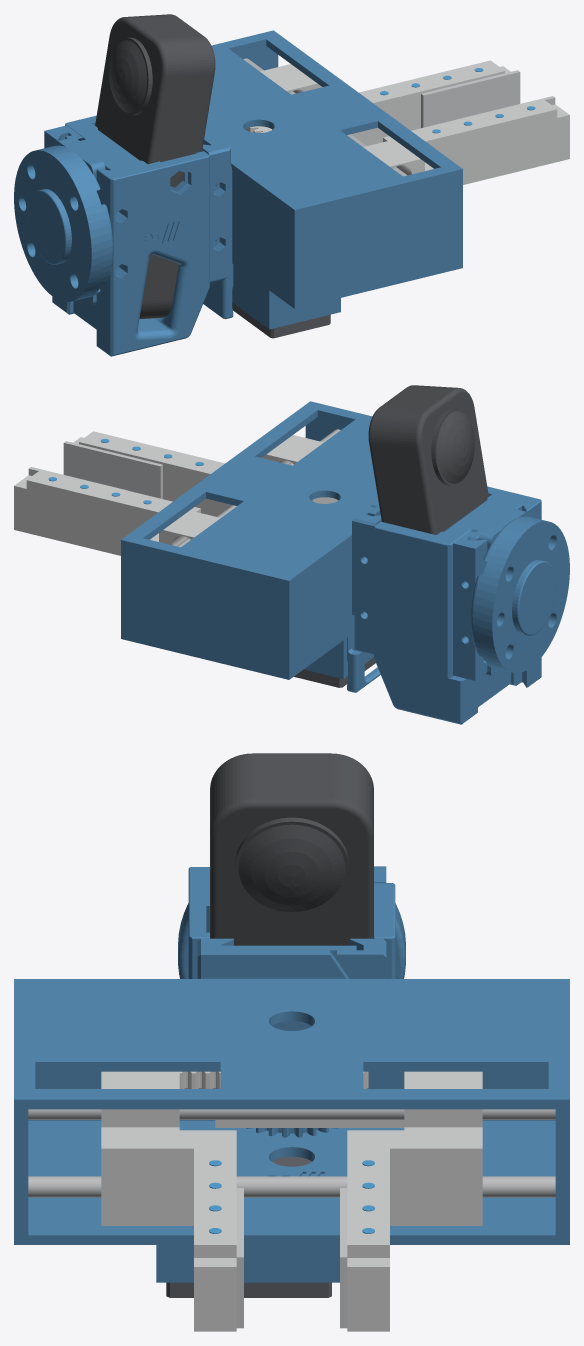
File: parallel_iso50.glb
The picture shows the model from 3 angles, top to bottom: view 1: azimuth 30°, elevation 25°; view 2: azimuth 150°, elevation 25°; view 3: azimuth 270°, elevation 25°; orthographic projection. The views are drawn at different scales.
Parts seen in each view (by area): view 1: parallel_base_sa, x5_frame, insta360_x5_envelope, iso_flange_plate, parallel_finger_right, parallel_finger_left, parallel_pad_left, parallel_carriage_right, parallel_carriage_left, servo_envelope, x5_clip_b; view 2: parallel_base_sa, x5_frame, insta360_x5_envelope, iso_flange_plate, parallel_finger_left, x5_clip_b, parallel_finger_right, parallel_pad_right, chopstick_clip_sa, parallel_carriage_left, parallel_carriage_right, servo_envelope; view 3: parallel_base_sa, insta360_x5_envelope, parallel_finger_left, parallel_finger_right, parallel_rod_bottom, parallel_carriage_left, parallel_rod_top, parallel_carriage_right, x5_frame, servo_envelope, chopstick_clip_sa, iso_flange_plate (+2 smaller).
Boxes of the visible parts, x1,y1,x2,y2 form: parallel_base_sa: [202, 30, 462, 329]; x5_frame: [52, 115, 209, 356]; insta360_x5_envelope: [95, 14, 215, 318]; iso_flange_plate: [14, 138, 112, 305]; parallel_finger_right: [383, 98, 569, 184]; parallel_finger_left: [322, 60, 510, 145]; parallel_pad_left: [421, 70, 520, 128]; parallel_carriage_right: [363, 139, 424, 175]; parallel_carriage_left: [245, 64, 321, 132]; servo_envelope: [232, 303, 330, 338]; x5_clip_b: [44, 125, 82, 148]; parallel_base_sa: [121, 401, 380, 692]; x5_frame: [374, 486, 541, 724]; insta360_x5_envelope: [368, 385, 488, 534]; iso_flange_plate: [471, 508, 569, 676]; parallel_finger_left: [14, 469, 200, 555]; x5_clip_b: [453, 531, 487, 680]; parallel_finger_right: [73, 431, 232, 516]; parallel_pad_right: [63, 441, 162, 498]; chopstick_clip_sa: [352, 506, 381, 654]; parallel_carriage_left: [159, 510, 220, 546]; parallel_carriage_right: [262, 435, 338, 503]; servo_envelope: [294, 657, 375, 687]; parallel_base_sa: [14, 938, 569, 1282]; insta360_x5_envelope: [210, 753, 373, 945]; parallel_finger_left: [347, 1127, 482, 1331]; parallel_finger_right: [101, 1127, 236, 1331]; parallel_rod_bottom: [28, 1176, 555, 1197]; parallel_carriage_left: [215, 1071, 482, 1127]; parallel_rod_top: [28, 1109, 555, 1119]; parallel_carriage_right: [101, 1071, 368, 1127]; x5_frame: [188, 867, 395, 978]; servo_envelope: [166, 1156, 331, 1297]; chopstick_clip_sa: [337, 938, 386, 978]; iso_flange_plate: [178, 903, 405, 978].
Bounding box in the file's own units: 0.233 × 0.1361 × 0.156.
